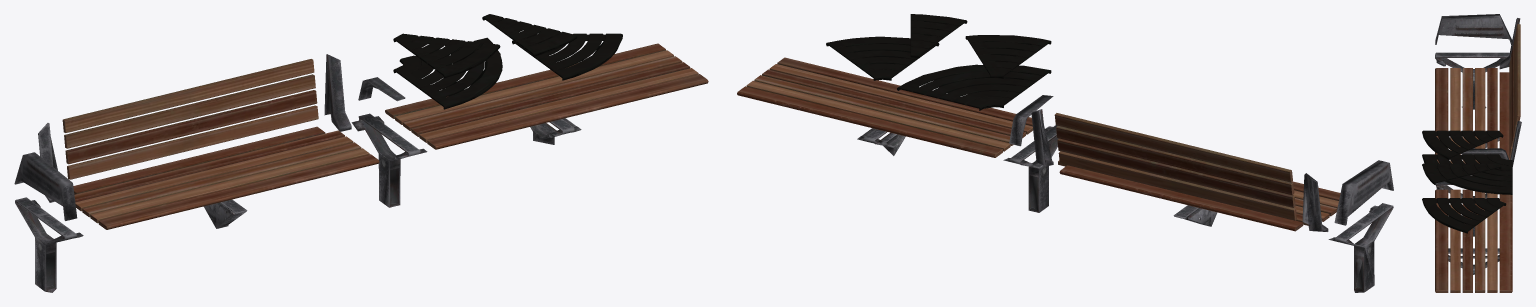
File: street_seating.glb
3 views of the same model, side by side, from view 1: azimuth 30°, elevation 25°; view 2: azimuth 150°, elevation 25°; view 3: azimuth 270°, elevation 25° (orthographic). The views are drawn at different scales.
Visible parts, largest first — view 1: seat_back, seat, seat_bench, connector_90, connector_45, connector_60, legs_double, legs_single, arm_rest_01, connector_30, back_support_l, suspended_support_01 (+3 smaller); view 2: seat_bench, seat_back, connector_90, seat, connector_60, connector_45, legs_single, arm_rest_01, legs_double, connector_30, back_support_r, back_support_l (+3 smaller); view 3: seat_bench, seat, connector_90, connector_60, arm_rest_01, connector_45, seat_back, connector_30, legs_single, arm_rest_02, back_support_r, suspended_support_02 (+2 smaller).
Boxes of the visible parts, x1,y1,x2,y2 form: seat_back: [62, 59, 318, 179]; seat: [73, 126, 379, 229]; seat_bench: [385, 43, 708, 149]; connector_90: [393, 37, 502, 109]; connector_45: [393, 33, 500, 78]; connector_60: [512, 33, 622, 80]; legs_double: [351, 113, 427, 207]; legs_single: [15, 197, 83, 292]; arm_rest_01: [14, 152, 77, 220]; connector_30: [482, 14, 577, 56]; back_support_l: [324, 54, 351, 131]; suspended_support_01: [203, 199, 247, 228]; seat_bench: [737, 57, 1033, 157]; seat_back: [1054, 113, 1296, 220]; connector_90: [897, 64, 1051, 110]; seat: [1058, 160, 1340, 231]; connector_60: [826, 36, 939, 80]; connector_45: [965, 35, 1051, 78]; legs_single: [1328, 203, 1393, 292]; arm_rest_01: [1334, 160, 1393, 225]; legs_double: [1003, 125, 1058, 212]; connector_30: [910, 14, 967, 58]; back_support_r: [1302, 173, 1328, 231]; back_support_l: [1031, 109, 1053, 166]; seat_bench: [1435, 189, 1512, 292]; seat: [1435, 68, 1510, 163]; connector_90: [1422, 154, 1512, 194]; connector_60: [1422, 198, 1506, 233]; arm_rest_01: [1435, 14, 1512, 44]; connector_45: [1422, 130, 1503, 160]; seat_back: [1509, 24, 1520, 157]; connector_30: [1422, 163, 1501, 184]; legs_single: [1435, 52, 1509, 109]; arm_rest_02: [1461, 148, 1509, 159]; back_support_r: [1499, 18, 1520, 69]; suspended_support_02: [1448, 248, 1499, 274].
Size of the model in its own units: 4.34 by 0.95 by 0.7704.
Materials: 4 (4 with a texture image).
